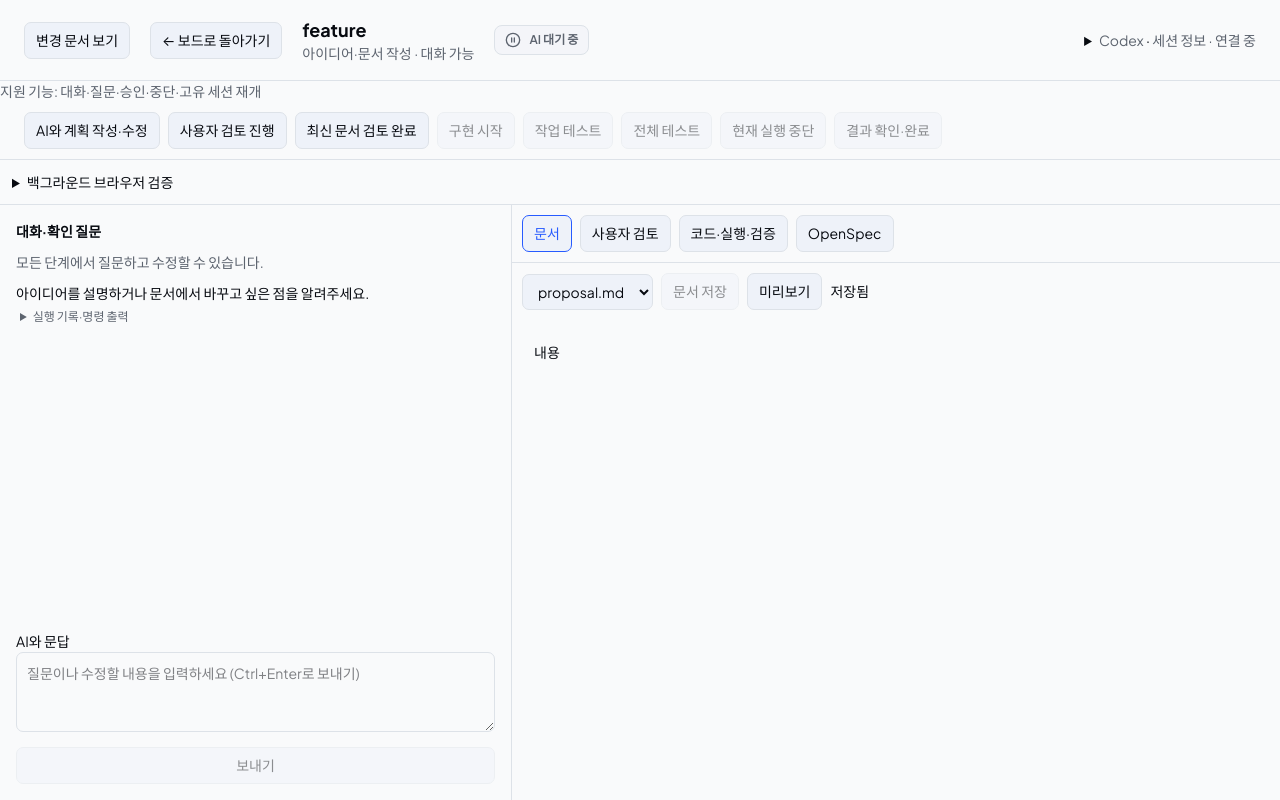
Test: HTTP 상태 이름보다 구체적인 충돌 원인을 표시한다
Expected: the text box named "문서 내용" is shown, top-left (512, 320), bottom-right (1279, 799)
In the text box labelled "AI와 문답": (256, 692) top-left (16, 652), bottom-right (495, 732), type "다시 진행"
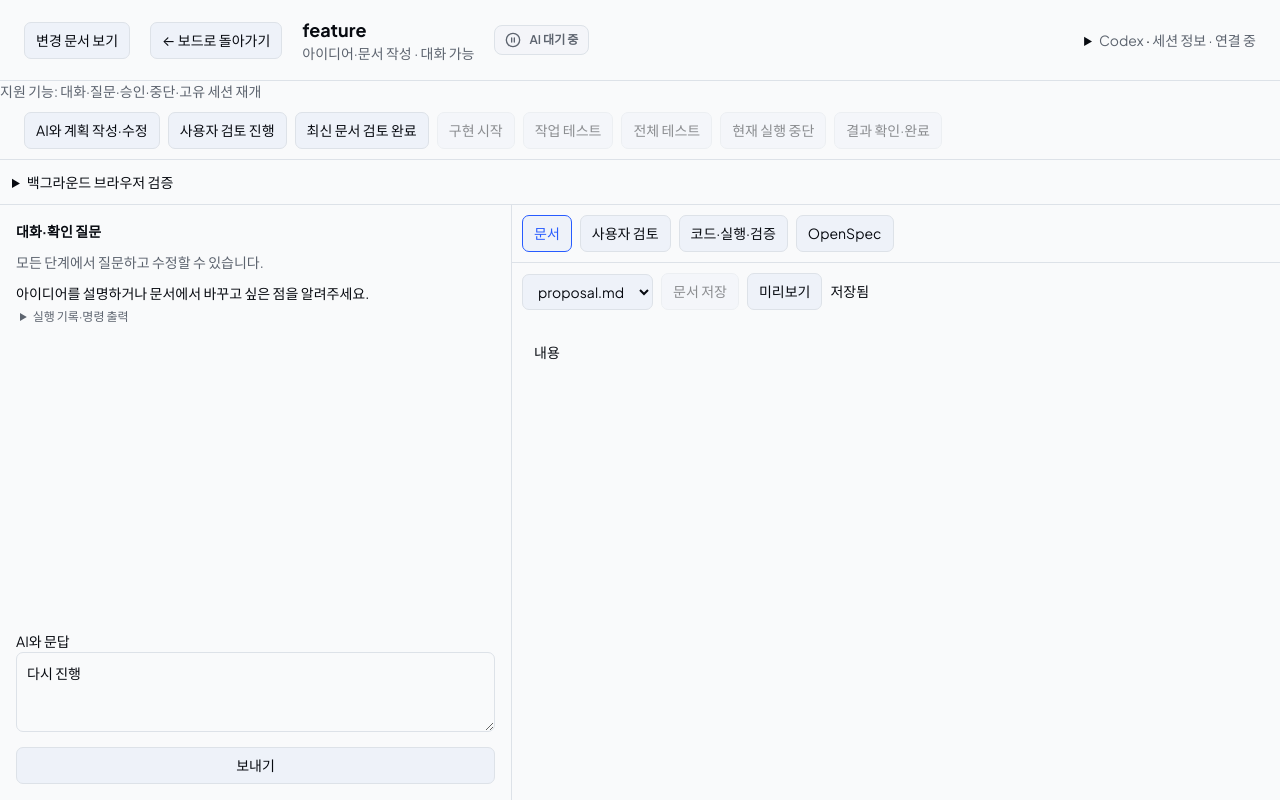
Click the button "보내기": (256, 766) top-left (16, 747), bottom-right (495, 784)
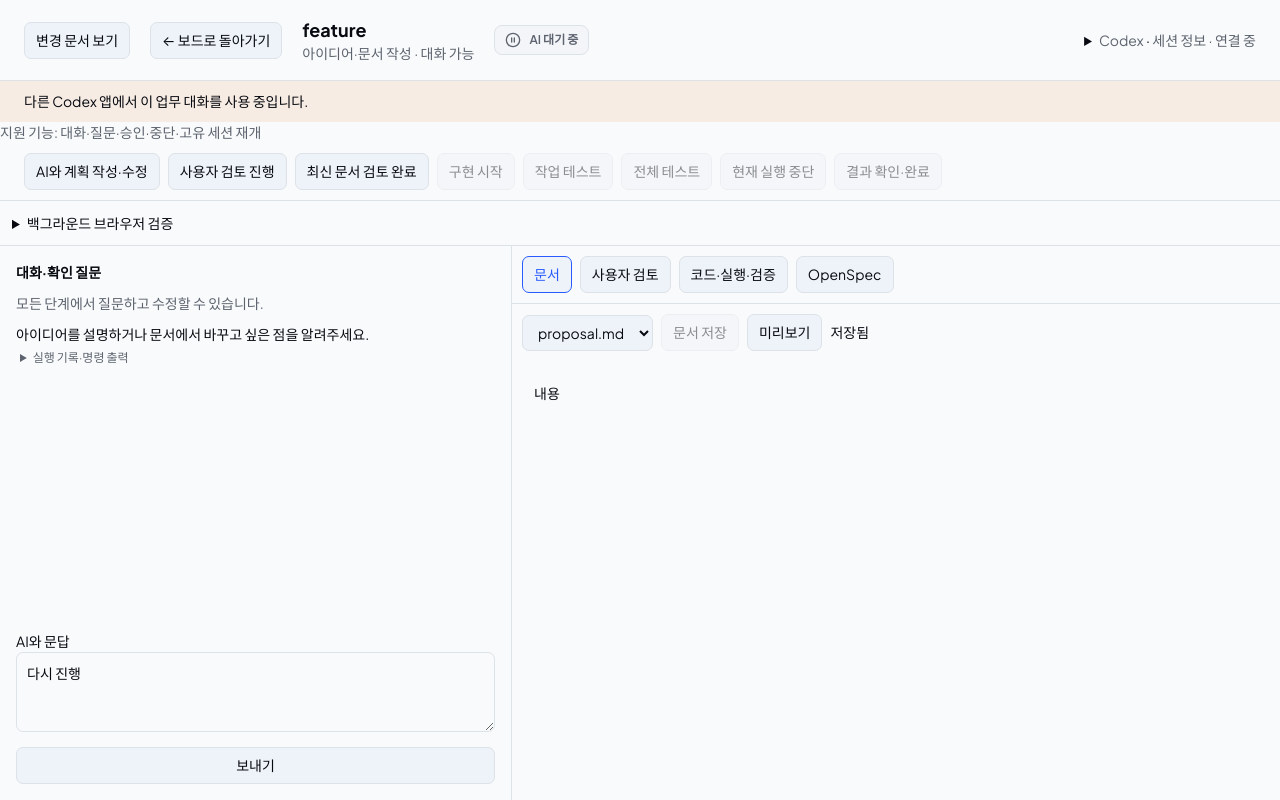
Now the message "다른 Codex 앱에서 이 업무 대화를 사용 중입니다." is shown, box top-left (0, 81), bottom-right (1279, 122)
